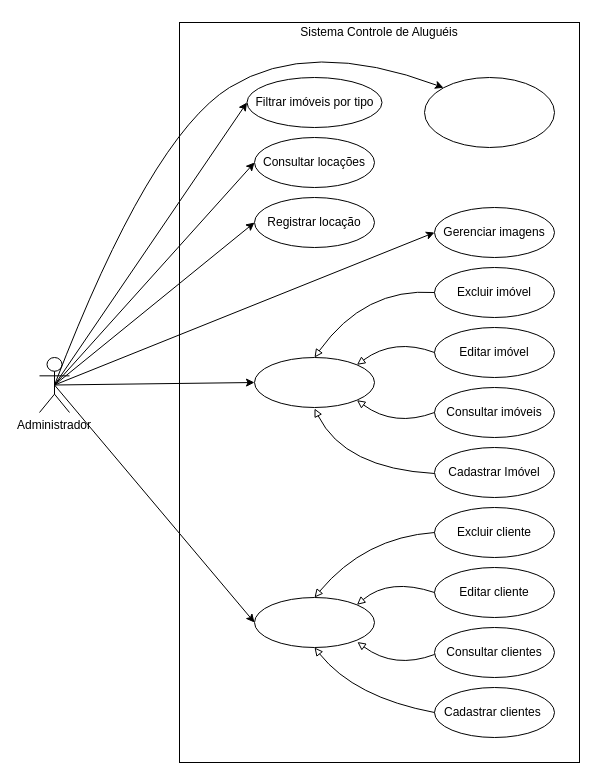
The diagram is 597 pixels wide and 780 high, and some of its shapes have lost their labels. The shapes that lost their labels are listed below. From the top down, each one's centre as x and y in pixels, then its label:
the point at 489,112: Emitir relatório de imóveis locados
the point at 314,382: Gerenciar Imóveis
the point at 314,622: Gerenciar clientes
